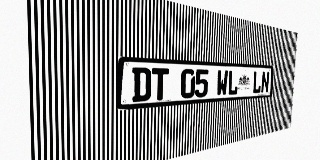0: (180, 69, 195, 99)
5: (195, 69, 209, 98)
D: (132, 67, 151, 102)
L: (227, 70, 239, 95), (252, 71, 262, 94)
N: (261, 71, 270, 93)
T: (151, 68, 169, 101)
W: (216, 70, 228, 96)
